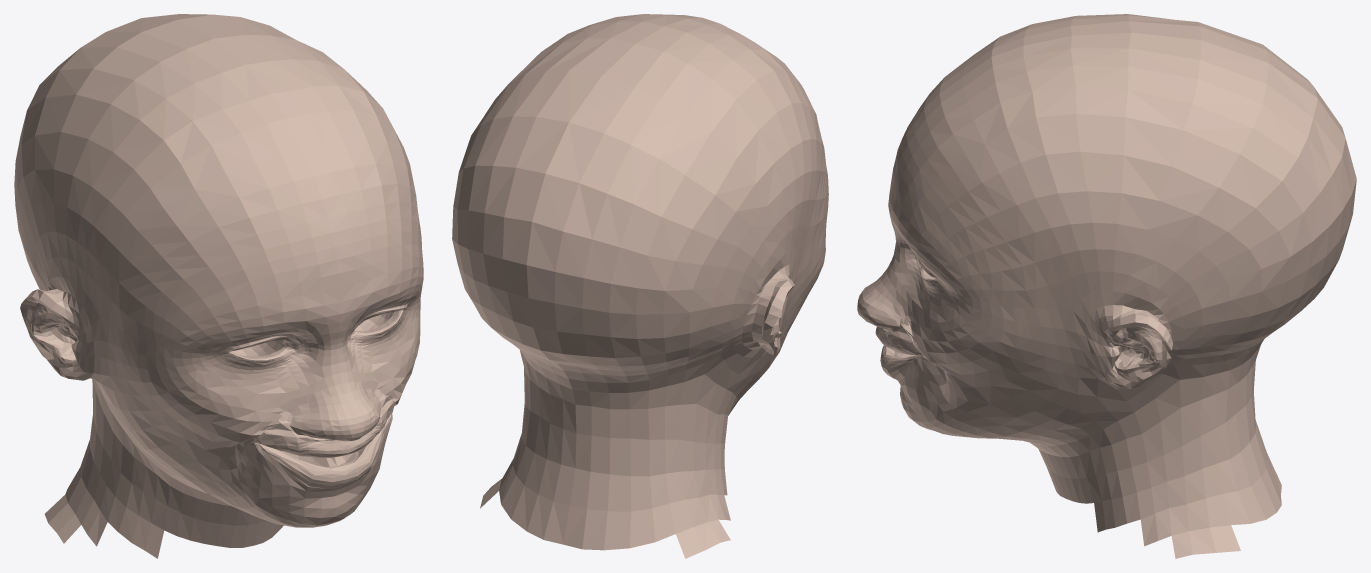
Rendered from karma_face_MH_smile_FITTEST.glb.
3 renders of one model, left to right at view 1: azimuth 30°, elevation 25°; view 2: azimuth 150°, elevation 25°; view 3: azimuth 270°, elevation 25°, orthographic. The views are drawn at different scales.
Parts seen in each view (by area): view 1: head; view 2: head; view 3: head.
Boxes of the visible parts, box(x1,y1,x2,y2) form: head: box(14, 14, 423, 558); head: box(452, 14, 828, 558); head: box(857, 14, 1356, 558).
Size of the model in its own units: 2.94 by 3.93 by 3.81.
